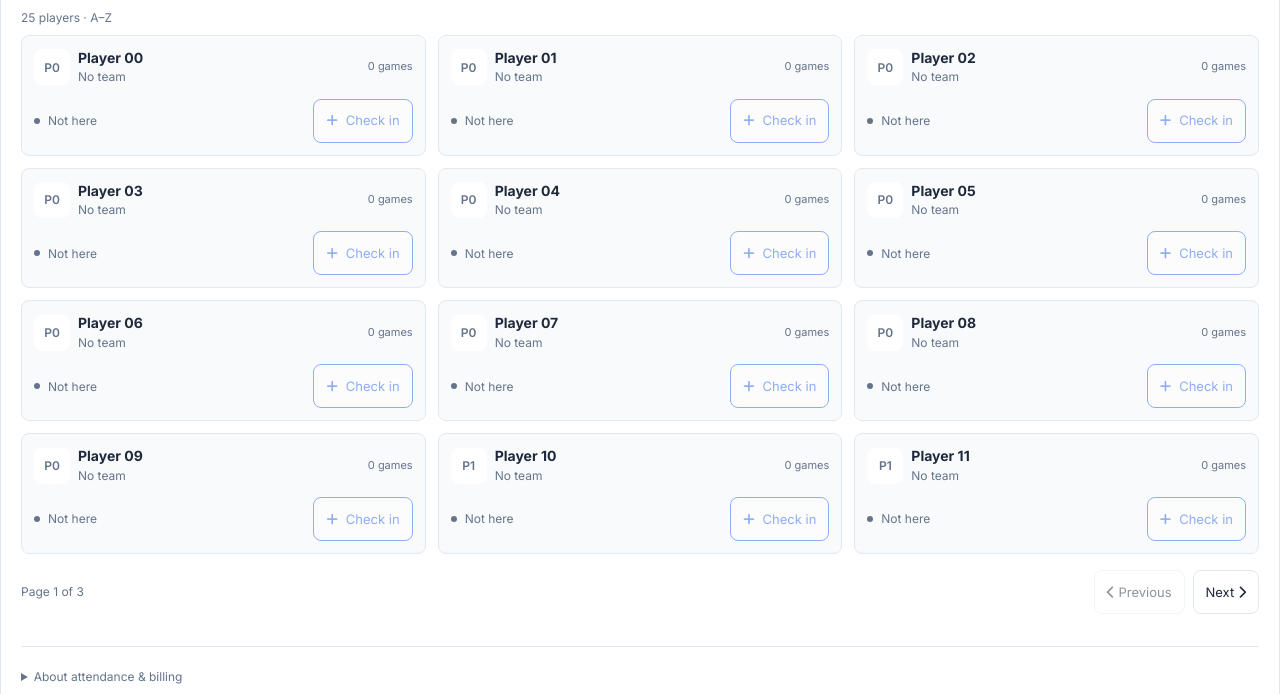
Scenario: player check-in › paginates large rosters and resets the page when a filter changes
The width and height of the screenshot is (1280, 694).
(page scrolled)
Click the button with aria-label "Next player page" at (1226, 592), box [1192,570,1259,614]
(page scrolled)
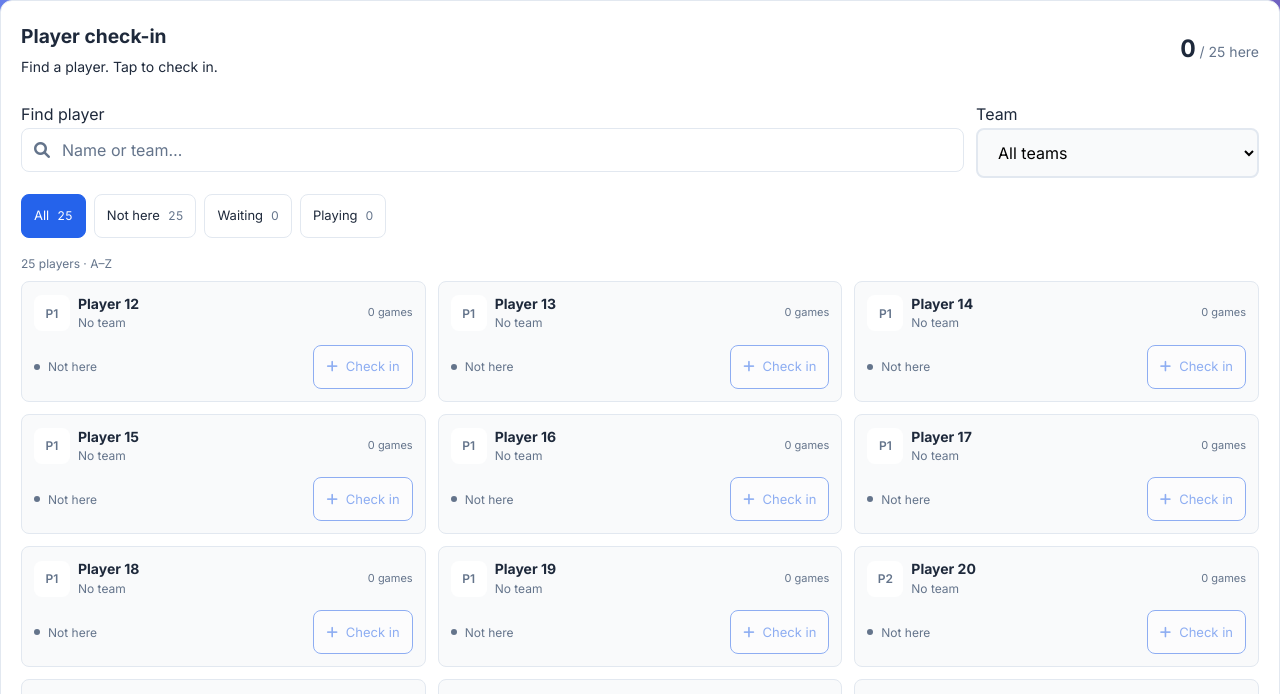
Click the button "Waiting 0" at (248, 216), box [204,194,292,238]
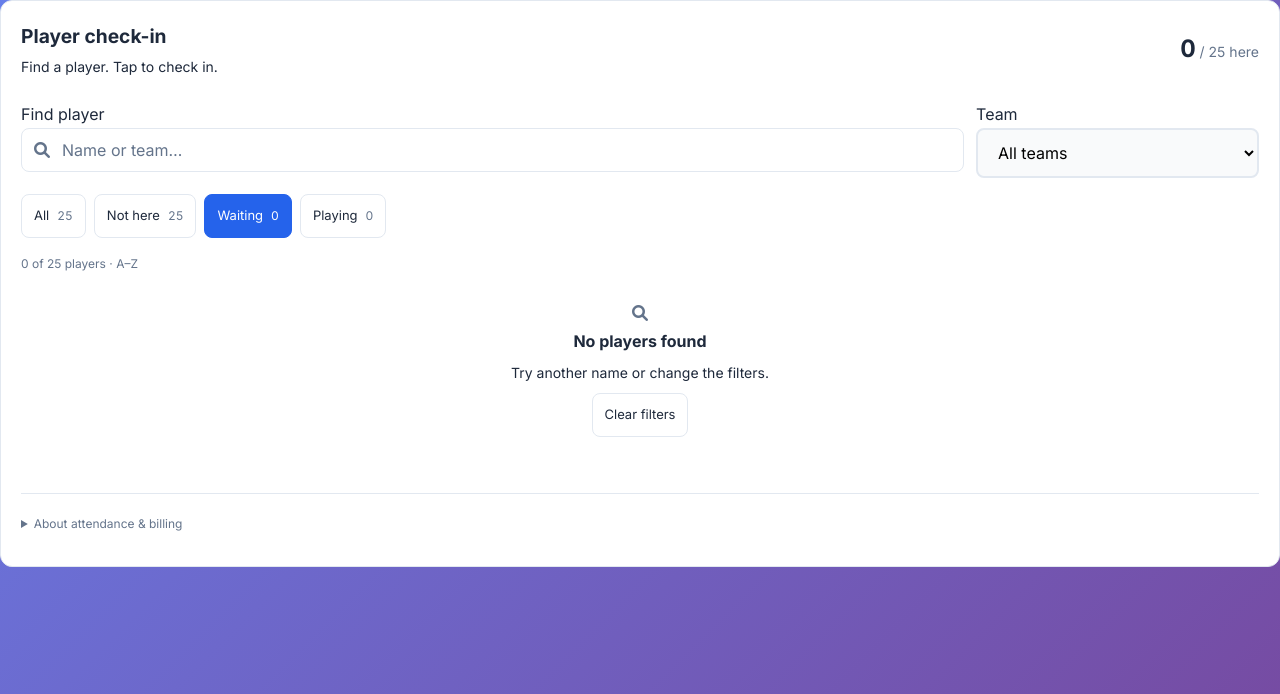
Click the button "All 25" at (53, 216), box [21,194,86,238]
(page scrolled)
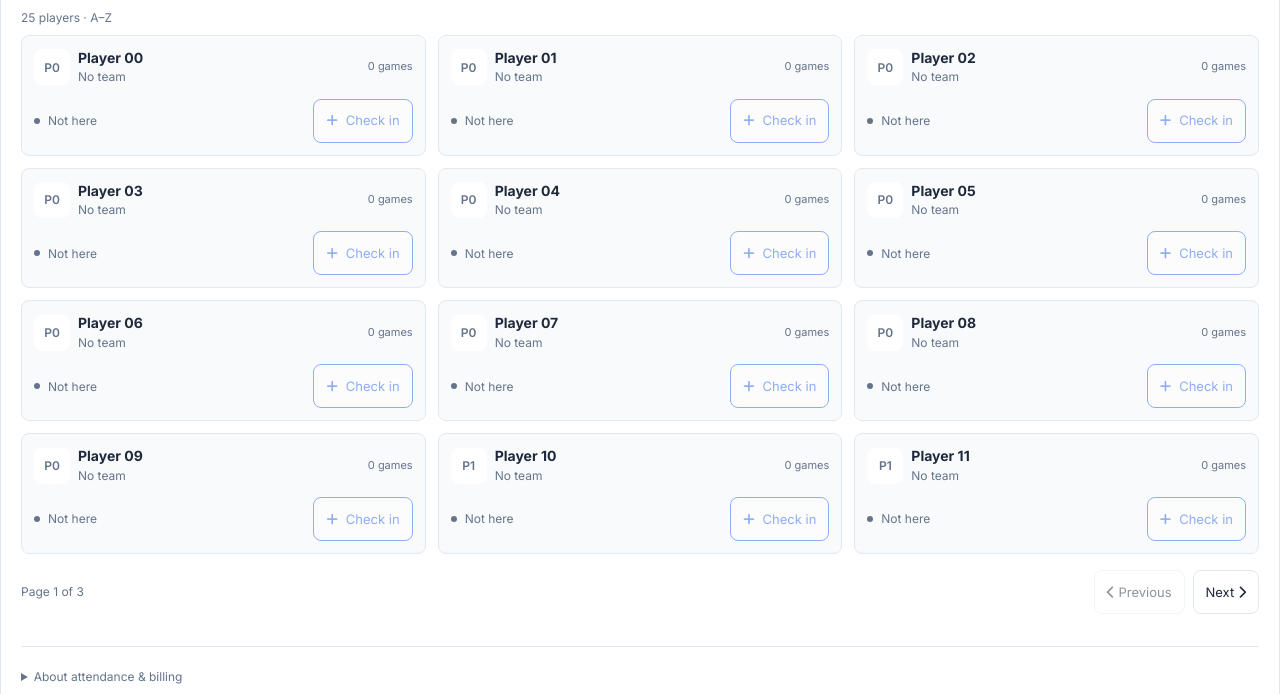
Result: the navigation bar with class "checkin-pagination" shows "Page 1 of 3" at [21,570,1259,614]
